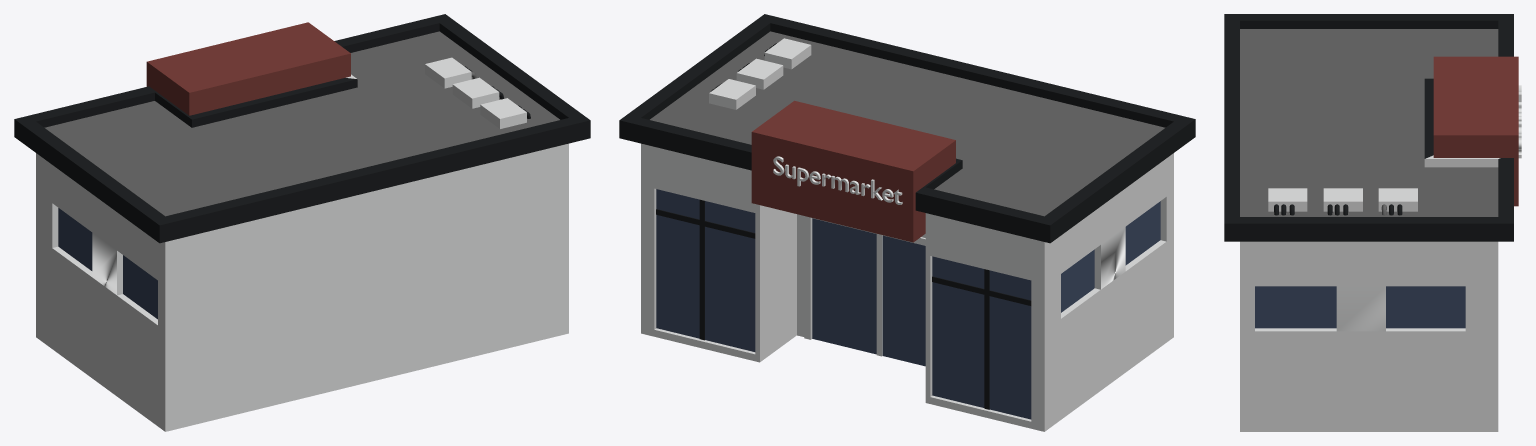
File: supermarket.fbx
The picture shows the model from 3 angles, left to right: view 1: azimuth 30°, elevation 25°; view 2: azimuth 150°, elevation 25°; view 3: azimuth 270°, elevation 25°; orthographic projection.
Visible parts, largest first — view 1: supermarket; view 2: supermarket; view 3: supermarket.
Boxes of the visible parts, x1,y1,x2,y2 form: supermarket: (14, 14, 590, 431); supermarket: (619, 14, 1195, 431); supermarket: (1224, 14, 1521, 431).
Bounding box in the file's own units: 1727 × 913 × 1034.
